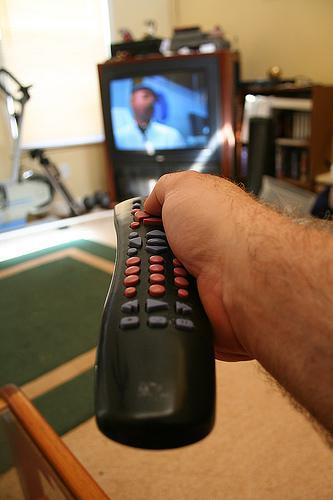hand: (145, 166, 295, 382)
tv: (89, 41, 245, 164)
